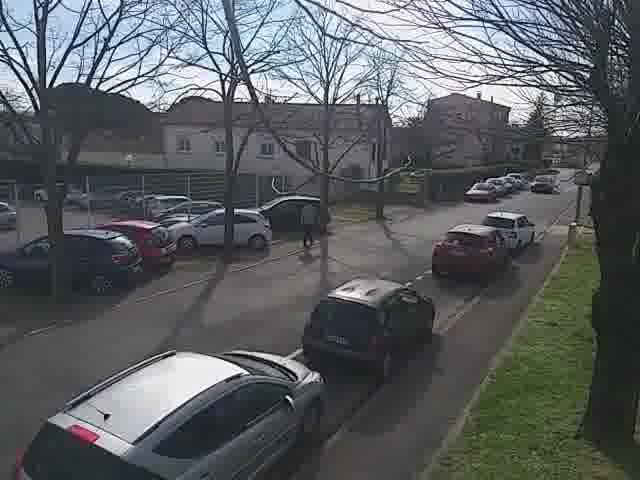persona: (294, 193, 320, 252)
